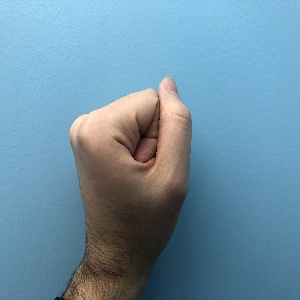hand: (70, 76, 192, 267)
